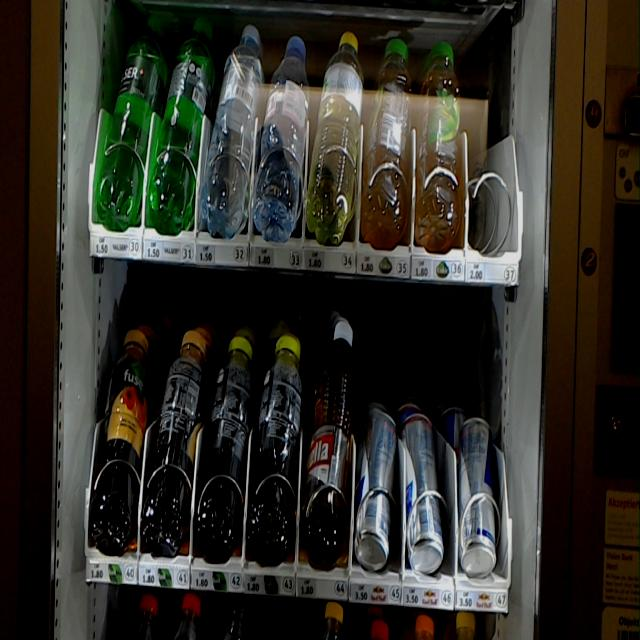evian___50__3068320353500: (260, 23, 312, 237)
fuse_lemon__50__5449000235947: (198, 338, 254, 554), (250, 343, 302, 558)
fuse_peach__50__5449000236623: (149, 336, 207, 554), (97, 328, 151, 554)
redbull___33__90162909: (400, 410, 445, 569), (354, 407, 396, 572), (457, 416, 497, 576)
rivella_rot__50__7610097111072: (300, 322, 355, 557)
valser_classic__50__76404160: (101, 15, 158, 227), (158, 16, 212, 226)
valser_still__50__7610335002575: (211, 22, 263, 236)
valser_vivabirne__50__7610335001530: (311, 24, 367, 235)
volvic_teeminze__50__3057640335648: (361, 34, 414, 245), (416, 41, 459, 242)
